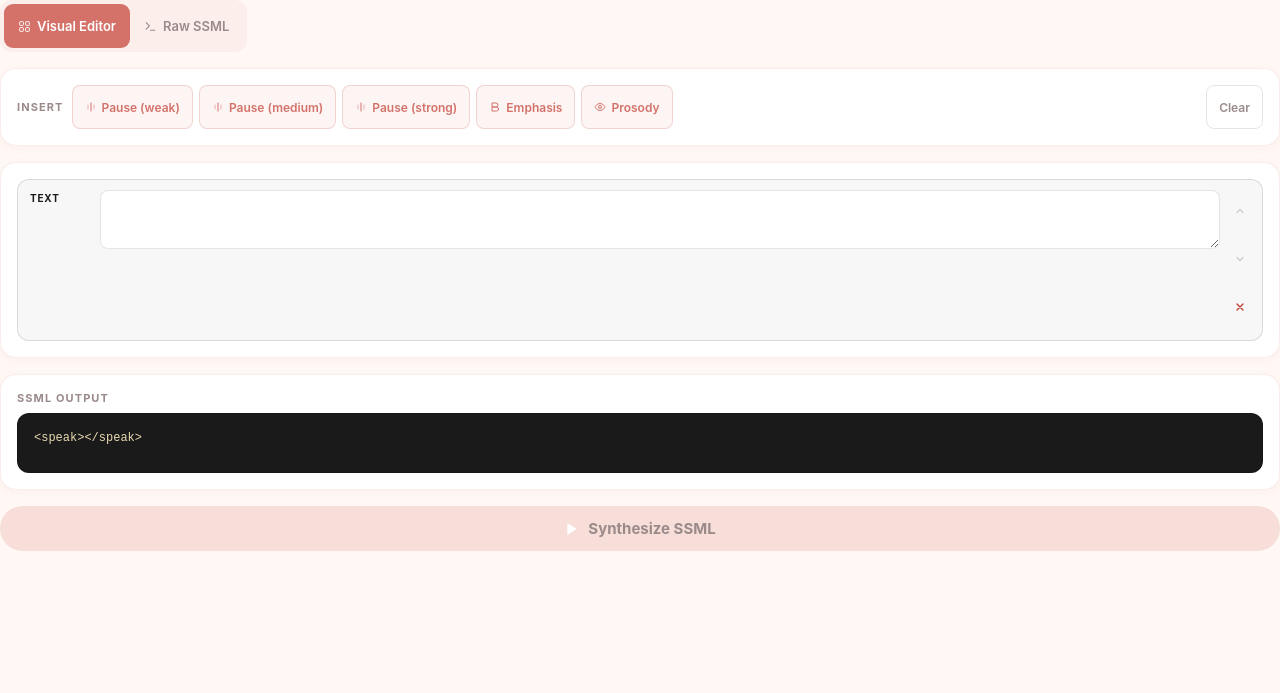
Test: synthesis › shows audio player after successful synthesis
In the text box named "Text content": {"x": 660, "y": 219} top-left (100, 190), bottom-right (1220, 249), type "Hello."
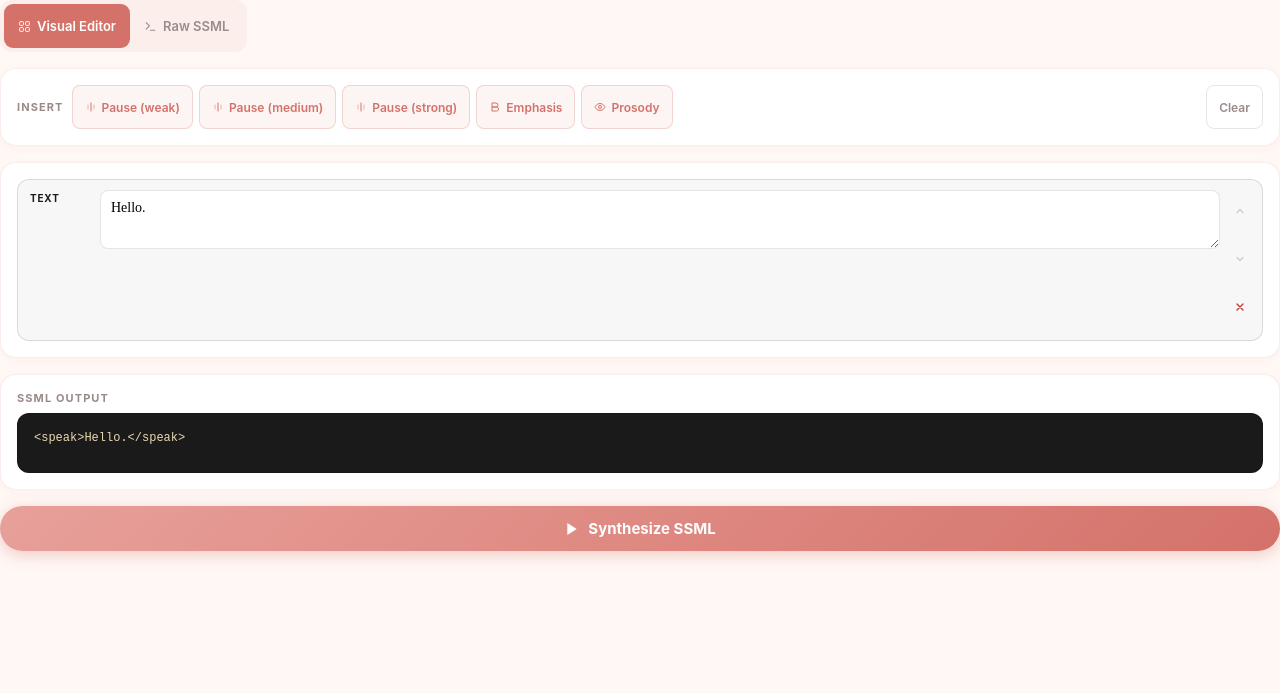
Click the button "Synthesize SSML": {"x": 640, "y": 528} top-left (0, 506), bottom-right (1279, 551)
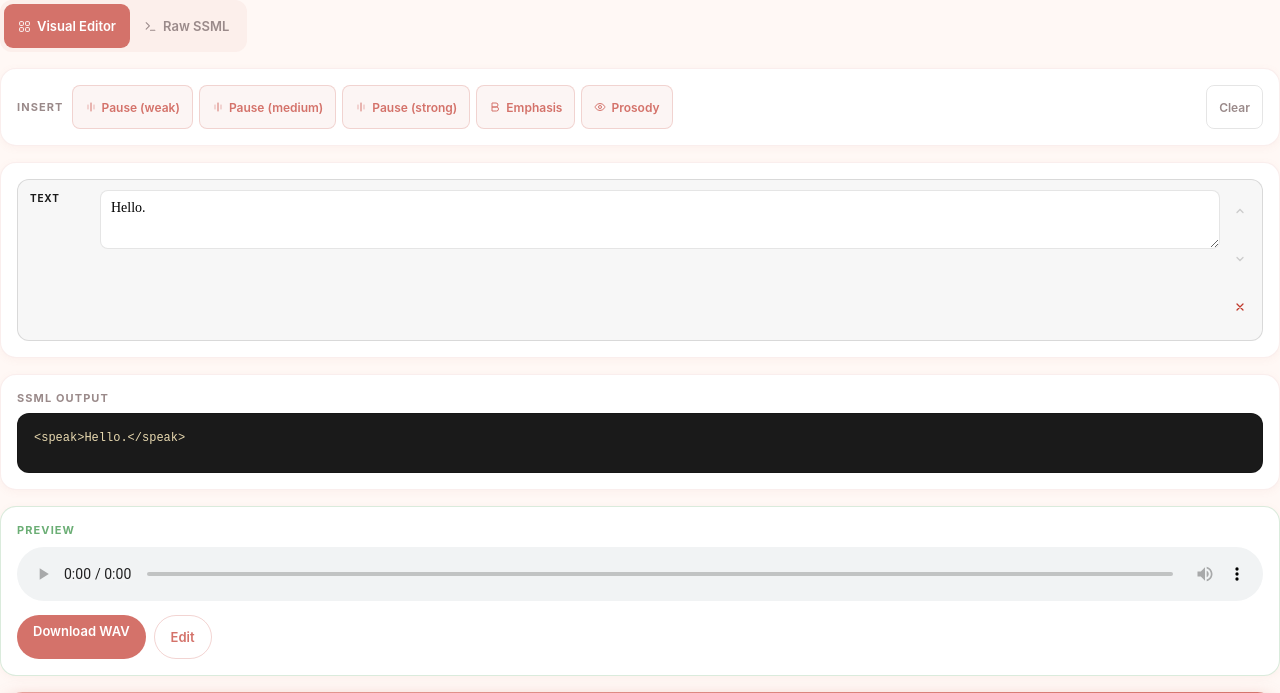
Expected: the element named "SSML audio preview" is shown, top-left (17, 547), bottom-right (1263, 601)
